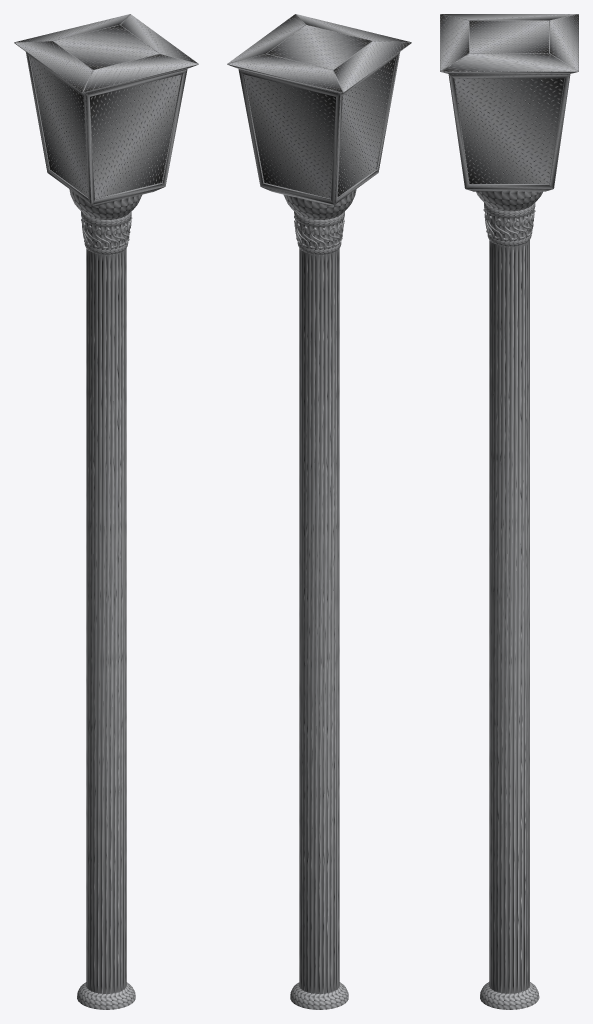
File: lamp.obj
3 views of the same model, side by side, from view 1: azimuth 30°, elevation 25°; view 2: azimuth 150°, elevation 25°; view 3: azimuth 270°, elevation 25° (orthographic).
Parts seen in each view (by area): view 1: Object01; view 2: Object01; view 3: Object01.
Part boxes in pixels (box(x1,y1,x2,y2)): Object01: box(14, 14, 198, 1009); Object01: box(227, 14, 411, 1009); Object01: box(440, 14, 578, 1009).
Size of the model in its own units: 32.12 by 250 by 32.67.
